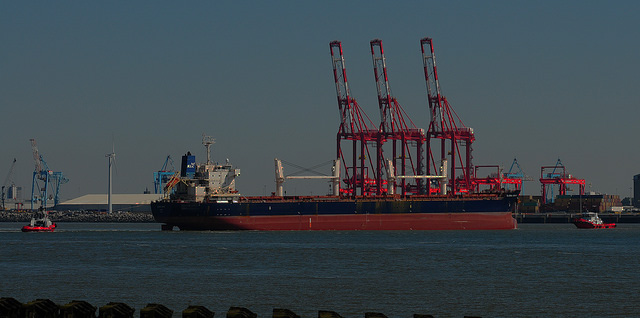bulk carrier: (152, 136, 524, 238)
tug_boat: (570, 202, 619, 237), (20, 201, 55, 230)
